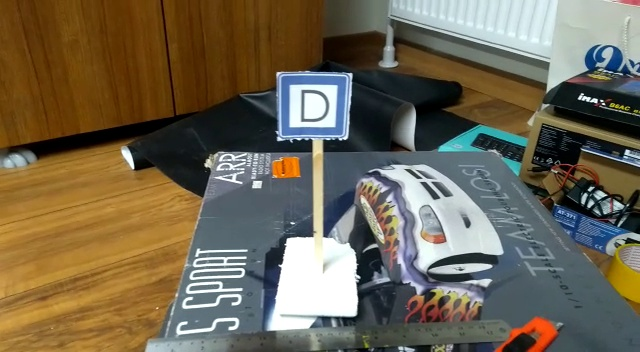durak: (276, 75, 354, 138)
